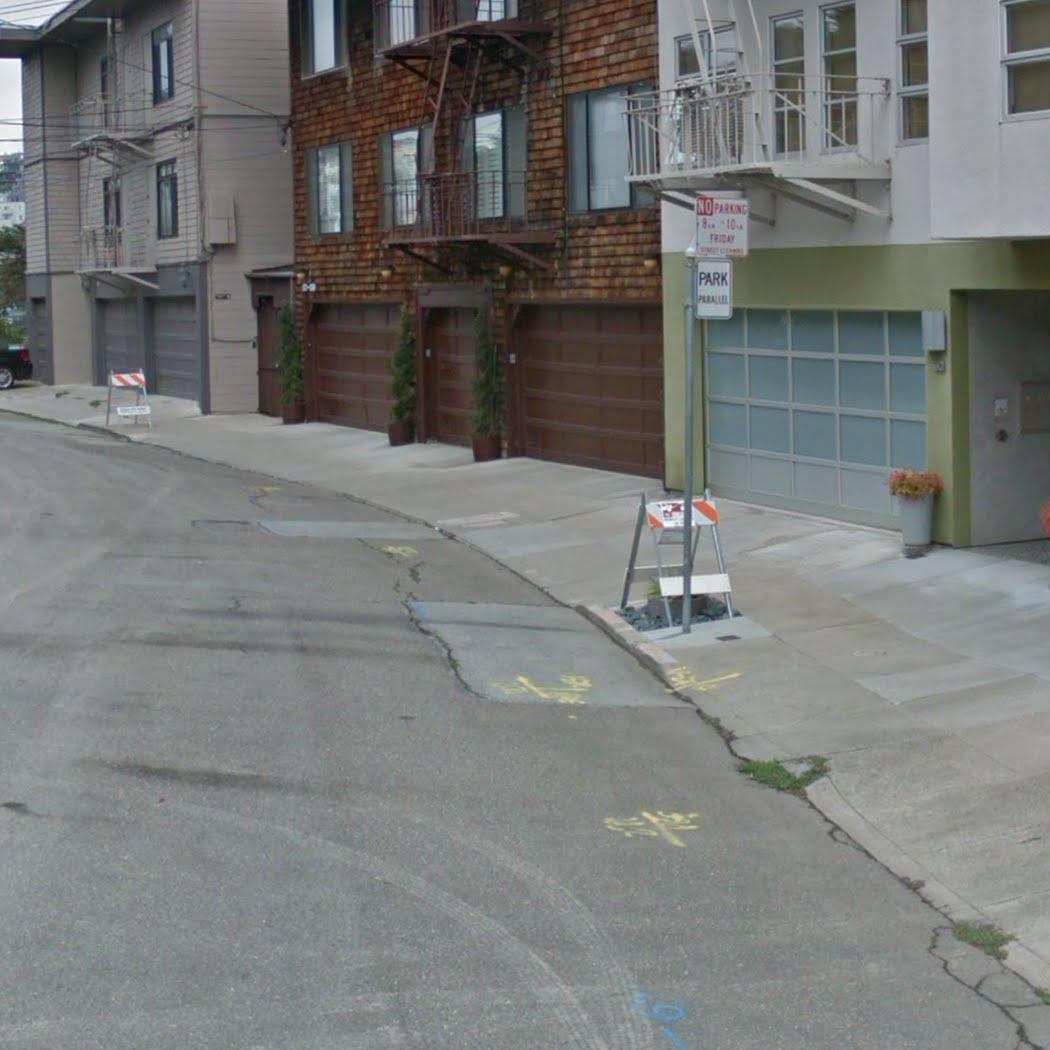No Parking: (693, 194, 751, 260)
